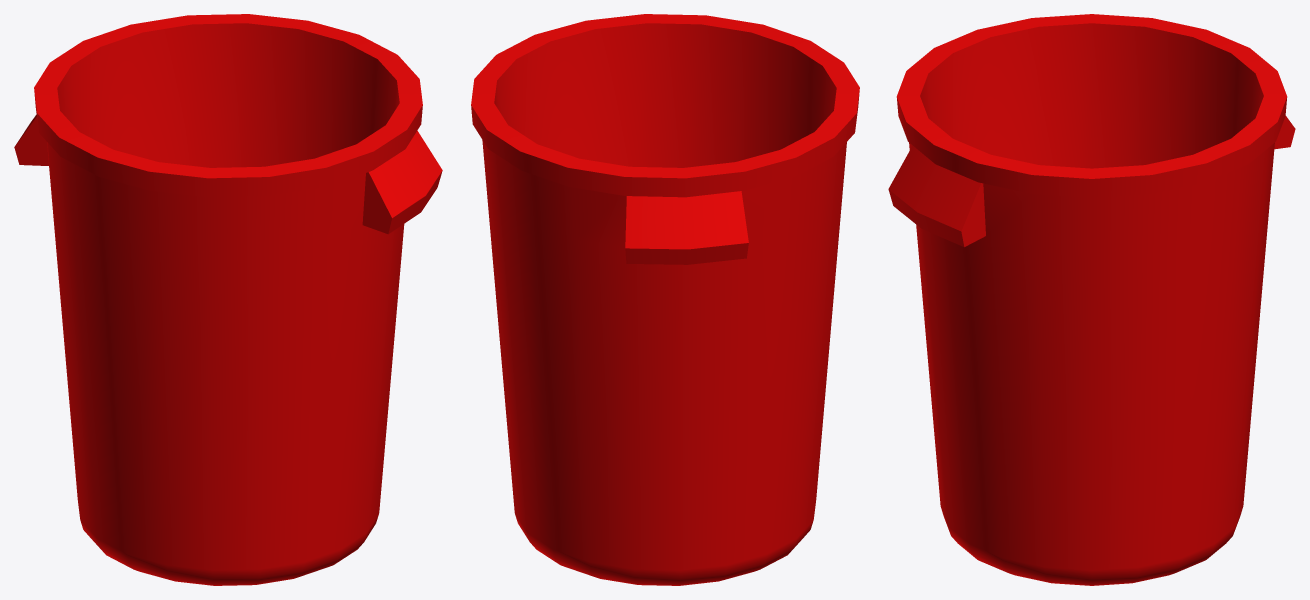
File: RoundTrashCan.fbx
3 renders of one model, left to right at view 1: azimuth 30°, elevation 25°; view 2: azimuth 150°, elevation 25°; view 3: azimuth 270°, elevation 25°, orthographic.
Visible parts, largest first — view 1: RoundTrashCan; view 2: RoundTrashCan; view 3: RoundTrashCan.
Part boxes in pixels (x1=…): RoundTrashCan: x1=14, y1=14, x2=442, y2=585; RoundTrashCan: x1=471, y1=14, x2=859, y2=585; RoundTrashCan: x1=888, y1=14, x2=1295, y2=585.
Size of the model in its own units: 79.18 by 97.65 by 82.55.
